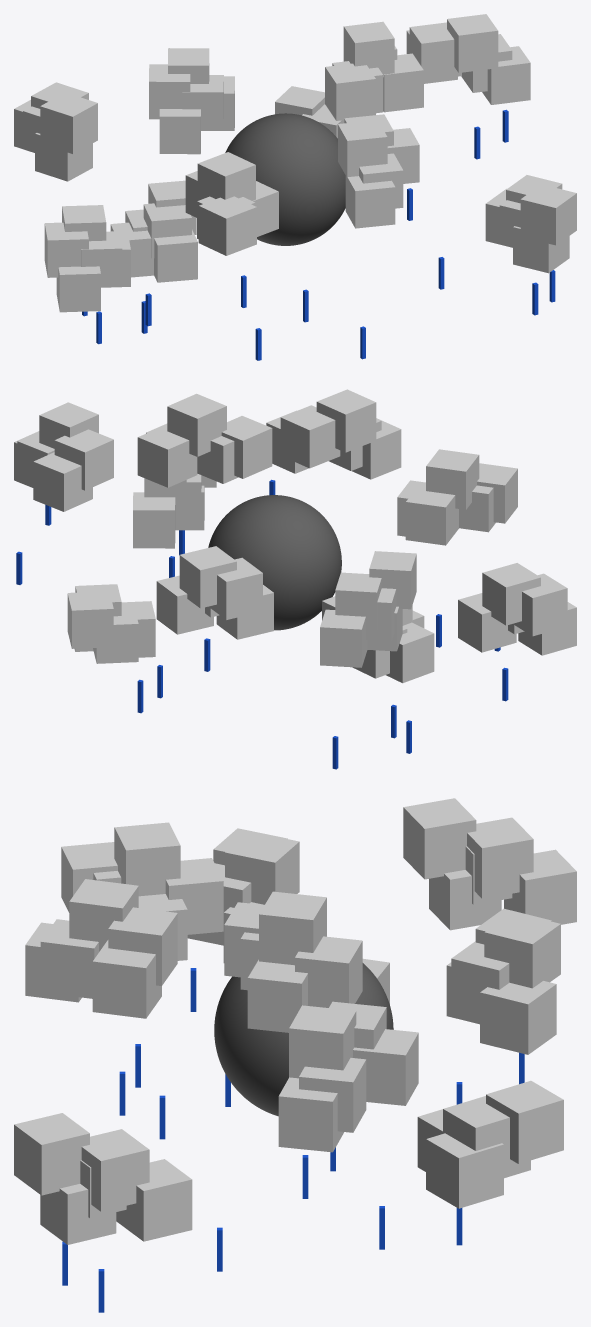
Rendered from moon_rain.glb.
3 renders of one model, top to bottom at view 1: azimuth 30°, elevation 25°; view 2: azimuth 150°, elevation 25°; view 3: azimuth 270°, elevation 25°, orthographic. The views are drawn at different scales.
Visible parts, largest first — view 1: Sphere, Cube.016, Cube.033, Cube.023, Cube.049, Cube.028, Cube.004, Cube.014, Cube.035, Cube.041, Cube.002; view 2: Sphere, Cube.023, Cube.028, Cube.033, Cube.049, Cube.004, Cube.035, Cube.016, Cube.002, Cube.014, Cube.041; view 3: Cube.014, Cube.035, Cube.016, Cube.033, Cube.023, Cube.002, Cube.004, Cube.028, Sphere, Cube.049.
Part boxes in pixels (x1,y1,x2,y2): Sphere: (225,113,345,245); Cube.016: (406,14,530,104); Cube.033: (338,114,419,228); Cube.023: (325,21,423,120); Cube.049: (44,205,130,312); Cube.028: (185,152,278,255); Cube.004: (149,48,234,154); Cube.014: (485,175,576,273); Cube.035: (14,82,97,181); Cube.041: (110,180,197,282); Cube.002: (275,86,344,138); Sphere: (208,495,341,630); Cube.023: (137,393,272,487); Cube.028: (397,449,517,545); Cube.033: (266,389,401,479); Cube.049: (458,563,576,655); Cube.004: (156,546,273,639); Cube.035: (320,551,416,667); Cube.016: (14,402,113,511); Cube.002: (67,584,155,663); Cube.014: (133,474,216,548); Cube.041: (322,596,434,683); Cube.014: (14,1113,192,1244); Cube.035: (403,798,576,930); Cube.016: (278,1001,418,1152); Cube.033: (25,879,177,1018); Cube.023: (224,891,362,1032); Cube.002: (417,1080,563,1208); Cube.004: (446,908,560,1054); Cube.028: (61,822,223,960); Sphere: (214,963,393,1116); Cube.049: (187,828,299,962).
Bounding box in the file's own units: 28.35 × 13.97 × 20.17.
